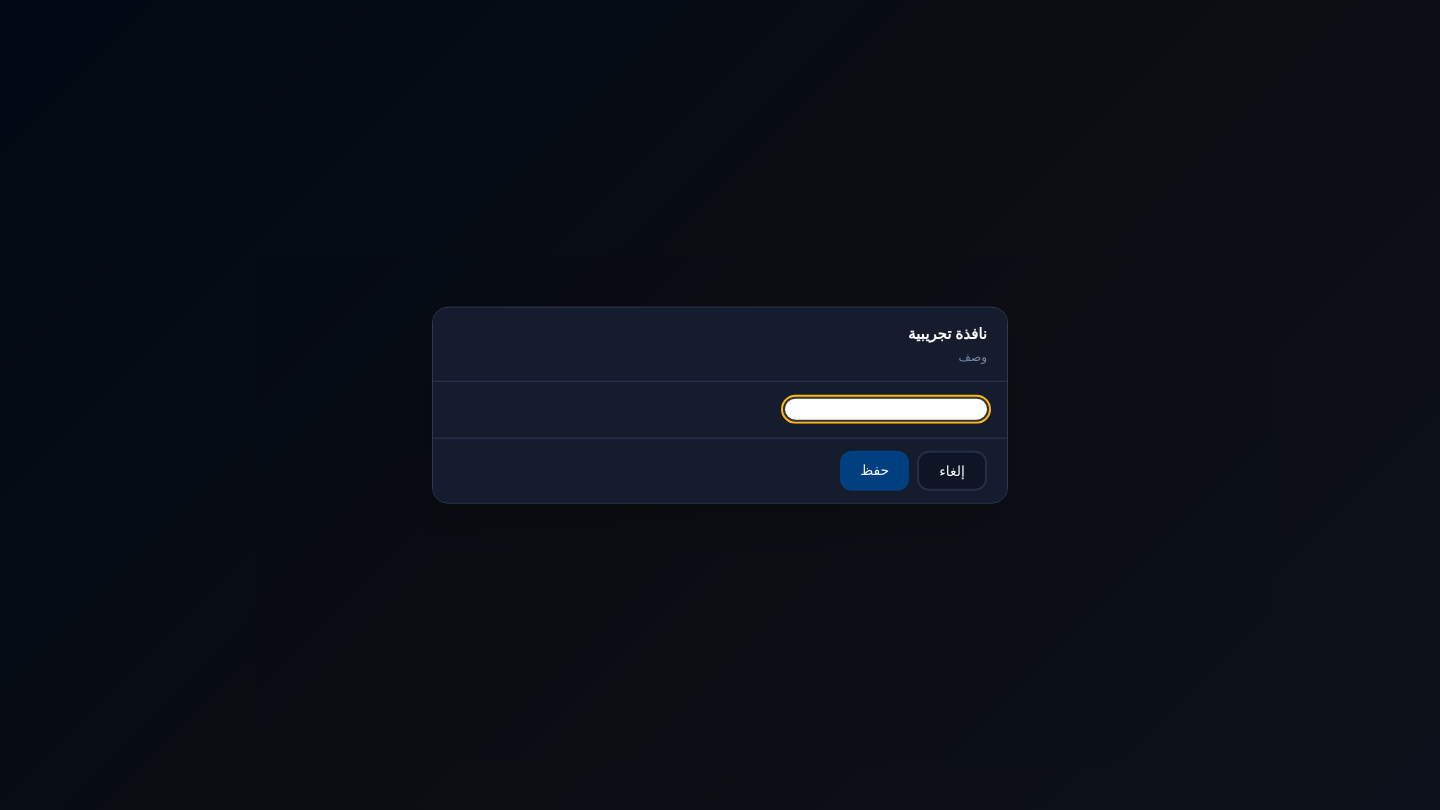
Test: StandardModal (RTL) › يُغلق عند الضغط على إلغاء
Click the button "إلغاء" at (952, 470), box [917,450,987,490]
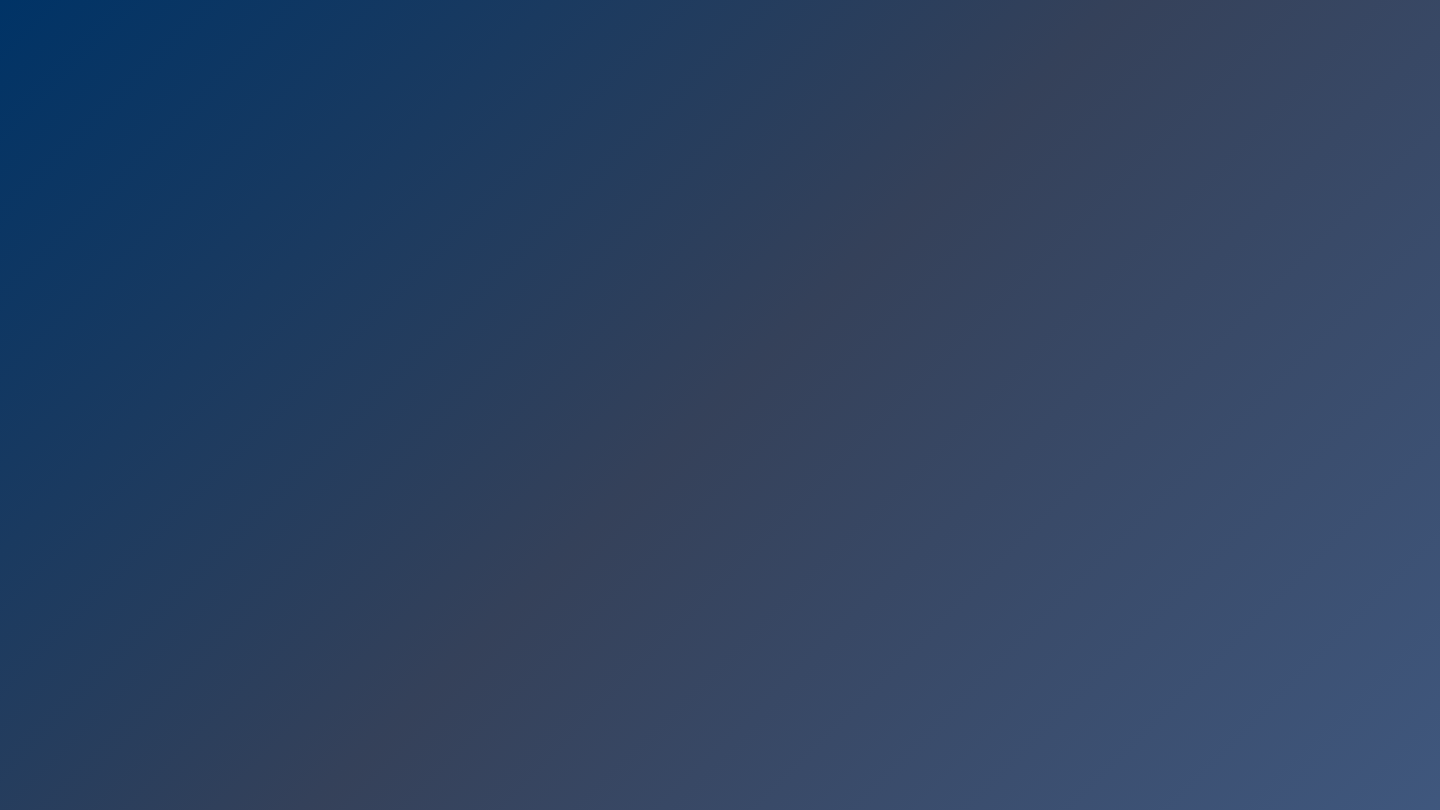
Expected: the heading "نافذة تجريبية" is gone
